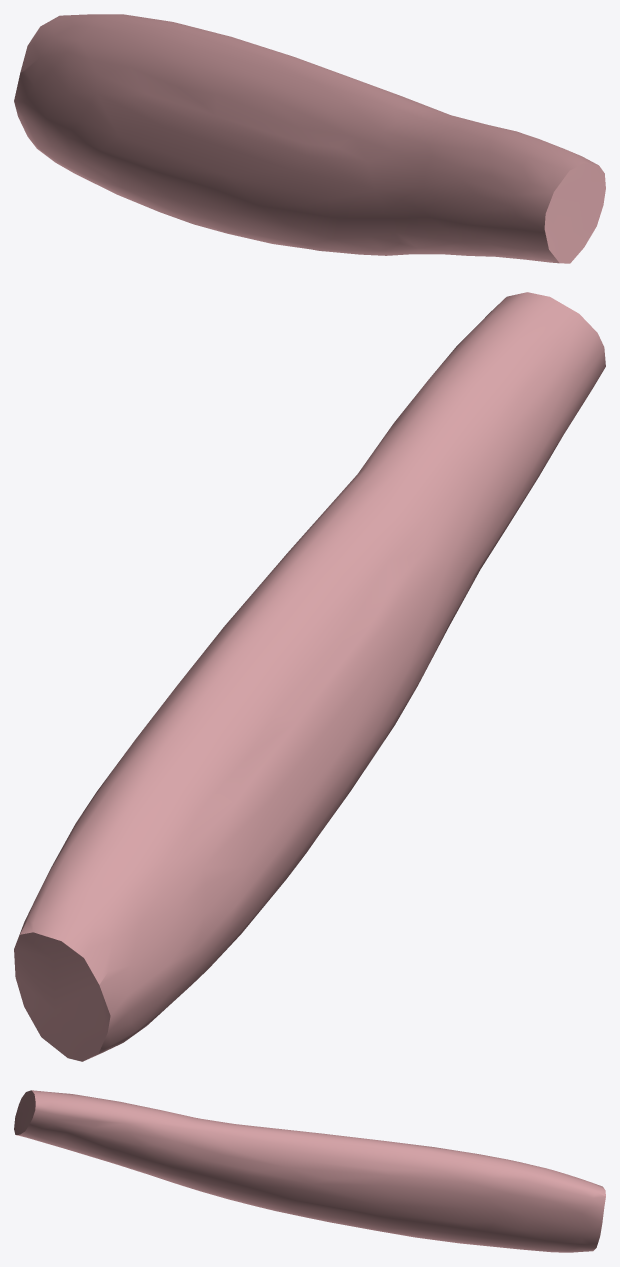
Rendered from fma319845_mm2211.glb.
3 views of the same model, one above another, from view 1: azimuth 30°, elevation 25°; view 2: azimuth 150°, elevation 25°; view 3: azimuth 270°, elevation 25° (orthographic). The views are drawn at different scales.
Parts seen in each view (by area): view 1: FMA319845_MM2211; view 2: FMA319845_MM2211; view 3: FMA319845_MM2211.
Part boxes in pixels (x1=…): FMA319845_MM2211: x1=14, y1=14, x2=605, y2=263; FMA319845_MM2211: x1=14, y1=292, x2=605, y2=1061; FMA319845_MM2211: x1=14, y1=1090, x2=605, y2=1252.
Bounding box in the file's own units: 0.00415 × 0.00835 × 0.0248.
